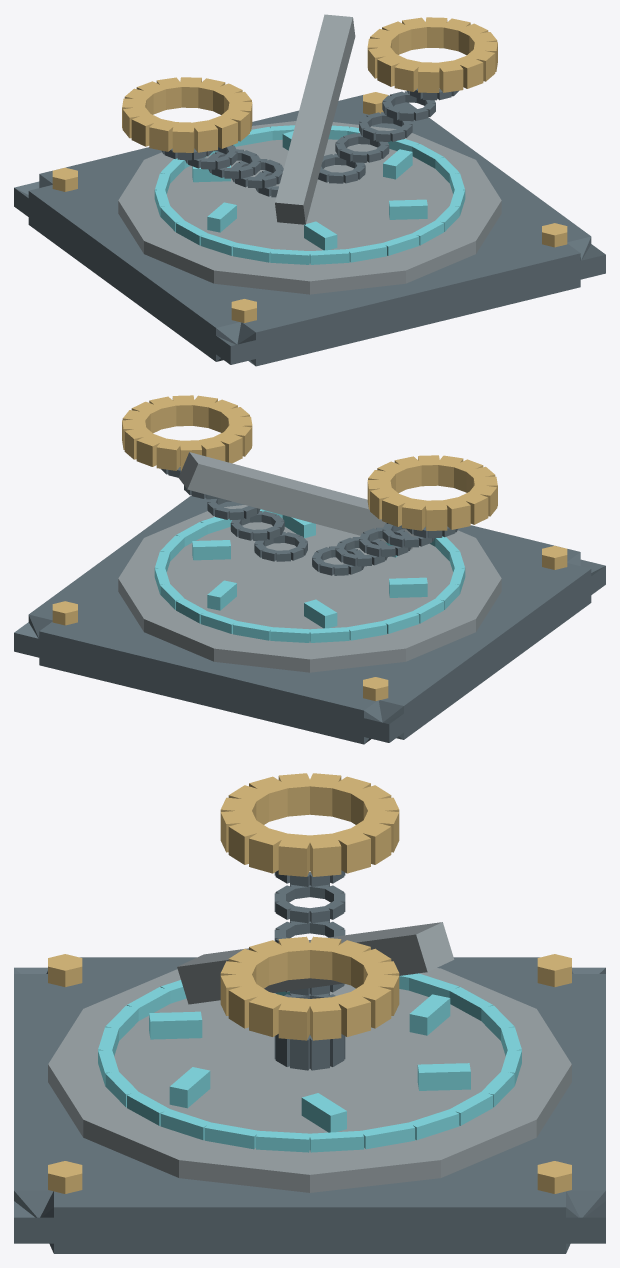
The model's file is TrapDisarm.fbx.
3 views of the same model, one above another, from view 1: azimuth 30°, elevation 25°; view 2: azimuth 150°, elevation 25°; view 3: azimuth 270°, elevation 25° (orthographic). The views are drawn at different scales.
Visible parts, largest first — view 1: TrapDisarm.002; view 2: TrapDisarm.002; view 3: TrapDisarm.002.
Part boxes in pixels (x1=…): TrapDisarm.002: x1=14, y1=14, x2=605, y2=366; TrapDisarm.002: x1=14, y1=395, x2=605, y2=744; TrapDisarm.002: x1=14, y1=773, x2=605, y2=1253.
Bounding box in the file's own units: 1.04 × 0.4822 × 1.04.
